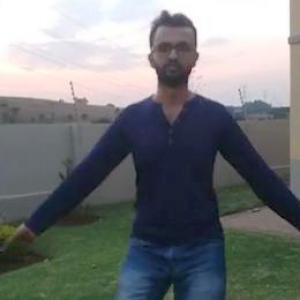land: (83, 73, 274, 299)
